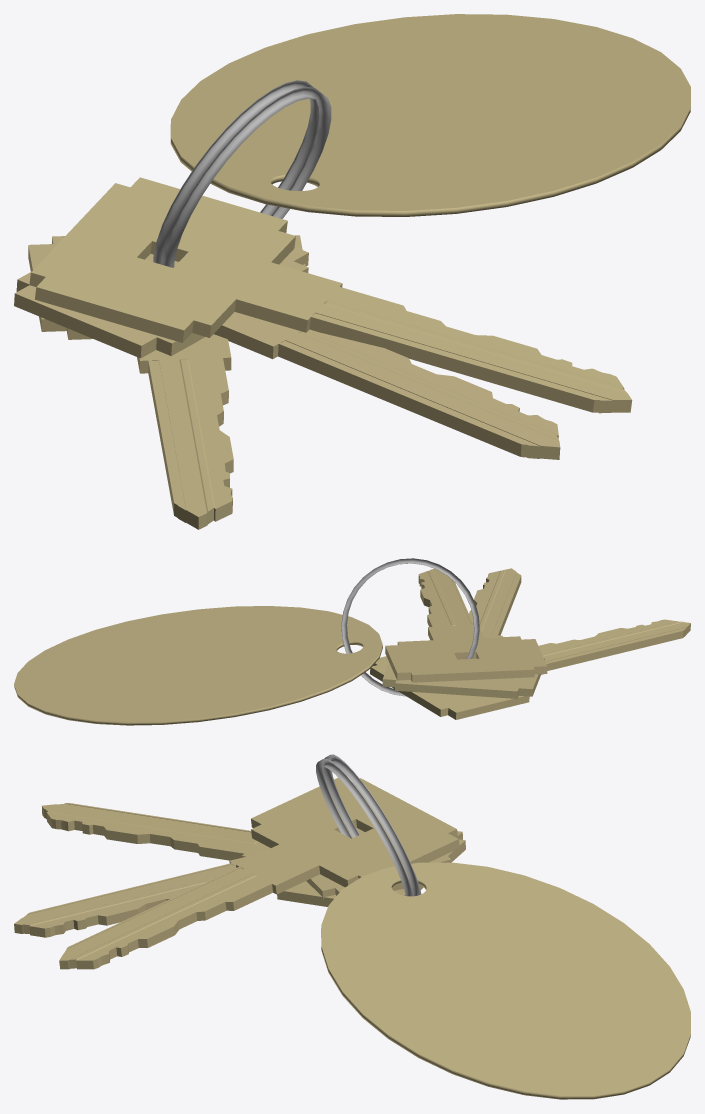
Rendered from sweethome3d-scopia-keys.glb.
The picture shows the model from 3 angles, top to bottom: view 1: azimuth 30°, elevation 25°; view 2: azimuth 150°, elevation 25°; view 3: azimuth 270°, elevation 25°; orthographic projection. The views are drawn at different scales.
Parts seen in each view (by area): view 1: chain-last_Circle.002, key3_Plane.002, key2_Plane.001, key_Plane, chain_Circle; view 2: chain-last_Circle.002, key3_Plane.002, key_Plane, key2_Plane.001, chain_Circle; view 3: chain-last_Circle.002, key3_Plane.002, key_Plane, key2_Plane.001, chain_Circle.
Boxes of the visible parts, x1,y1,x2,y2 form: chain-last_Circle.002: (170, 14, 690, 216); key3_Plane.002: (29, 177, 632, 413); key2_Plane.001: (14, 247, 560, 459); key_Plane: (28, 235, 305, 529); chain_Circle: (153, 80, 331, 267); chain-last_Circle.002: (14, 606, 382, 725); key3_Plane.002: (385, 568, 547, 682); key_Plane: (370, 619, 690, 719); key2_Plane.001: (382, 568, 544, 698); chain_Circle: (341, 558, 479, 696); chain-last_Circle.002: (321, 862, 690, 1099); key3_Plane.002: (59, 778, 459, 969); key_Plane: (42, 803, 465, 906); key2_Plane.001: (14, 828, 451, 937); chain_Circle: (316, 754, 421, 896).
Size of the model in its own units: 11.53 by 2.85 by 11.42.
